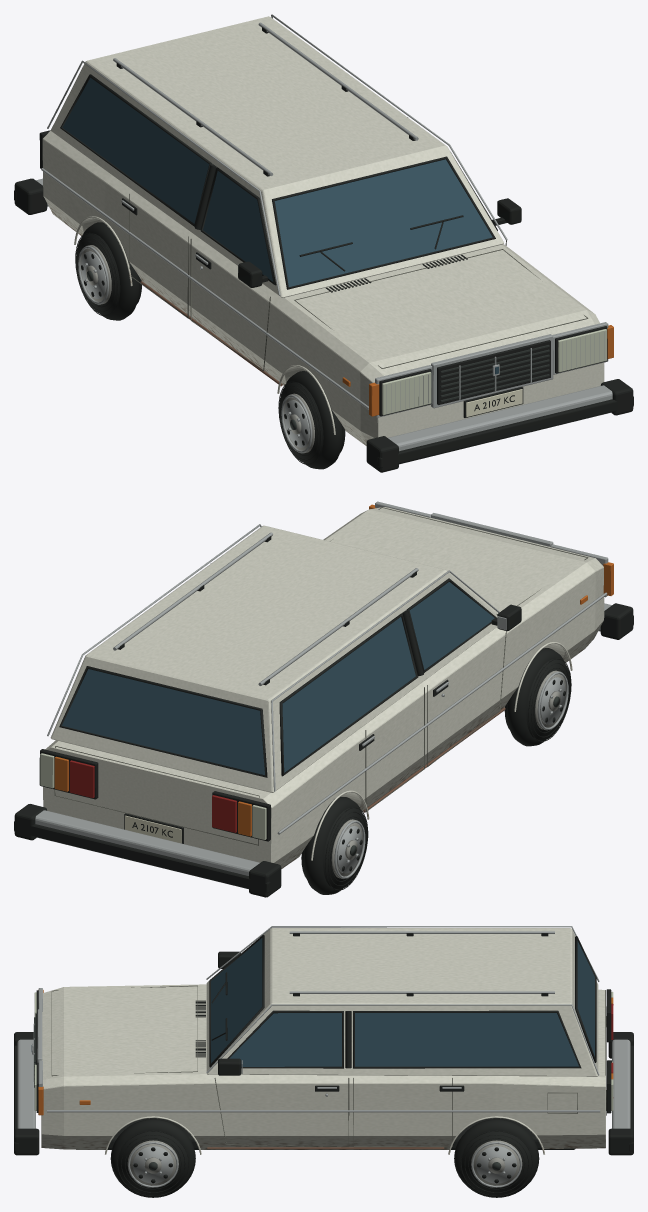
Rendered from lada_wagon.glb.
3 views of the same model, one above another, from view 1: azimuth 30°, elevation 25°; view 2: azimuth 150°, elevation 25°; view 3: azimuth 270°, elevation 25° (orthographic). The views are drawn at different scales.
Visible parts, largest first — view 1: Body, Wheel_L_F.001, Wheel_L_R.001; view 2: Body, Wheel_L_R.001, Wheel_L_F.001; view 3: Body, Wheel_R_R.001, Wheel_R_F.001.
Boxes of the visible parts, box(x1,y1,x2,y2) form: Body: box(14, 14, 633, 472); Wheel_L_F.001: box(278, 371, 345, 469); Wheel_L_R.001: box(75, 222, 141, 320); Body: box(14, 501, 633, 897); Wheel_L_R.001: box(301, 797, 368, 894); Wheel_L_F.001: box(504, 648, 571, 746); Body: box(14, 926, 633, 1155); Wheel_R_R.001: box(454, 1119, 539, 1197); Wheel_R_F.001: box(110, 1119, 195, 1197).
Size of the model in its own units: 1.87 by 1.47 by 4.37.
12 materials, 1 textured.
